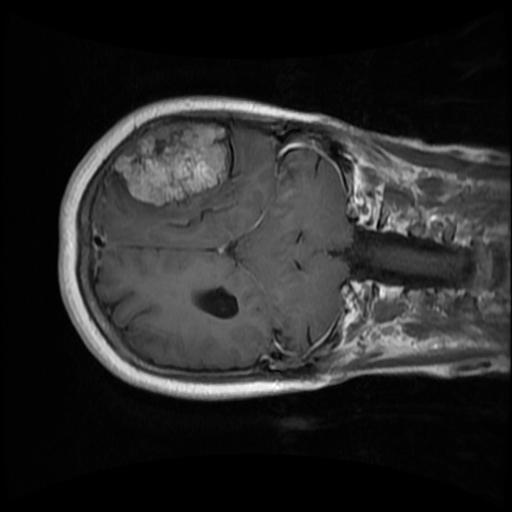meningioma: (113, 122, 230, 208)
